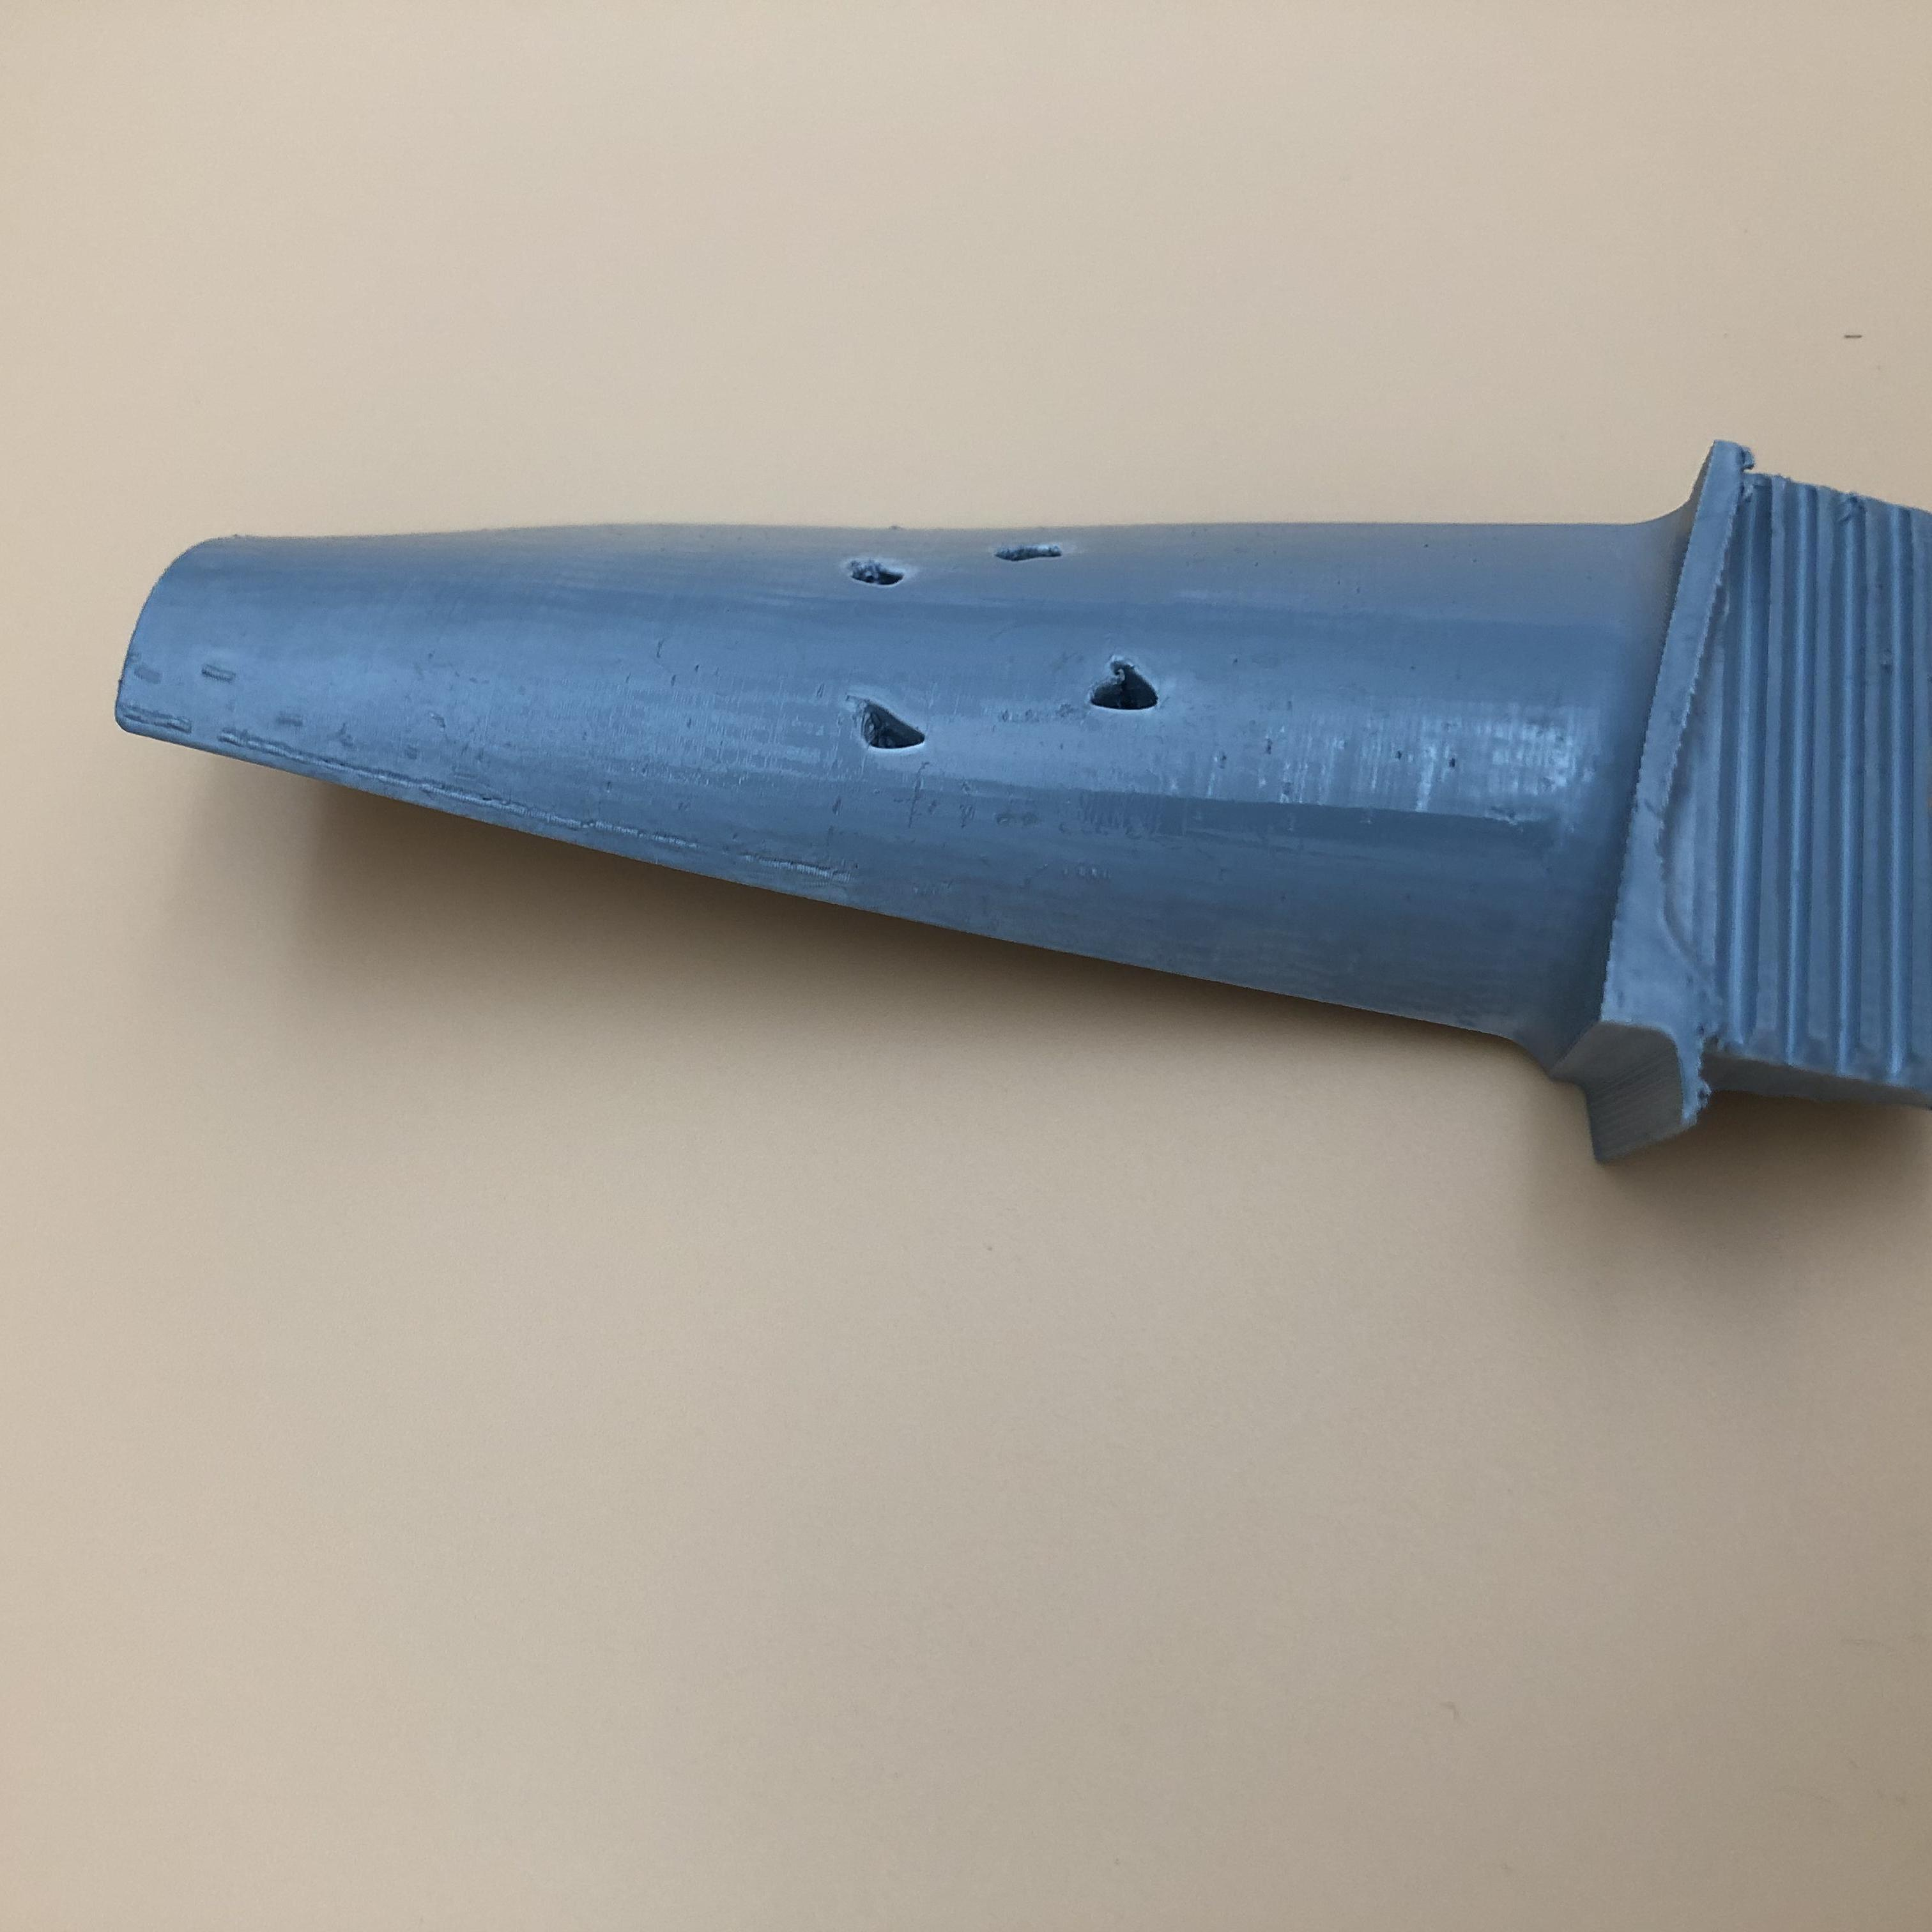breakdown: (837, 529, 1175, 761)
